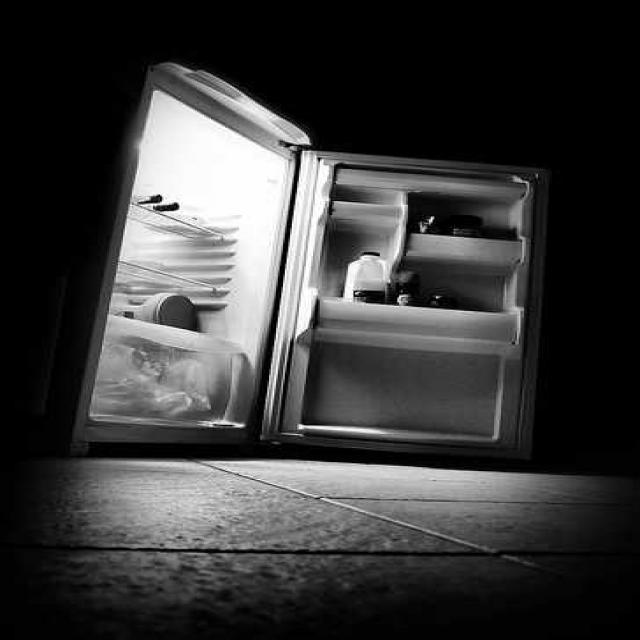refrigerator: (122, 67, 536, 456)
